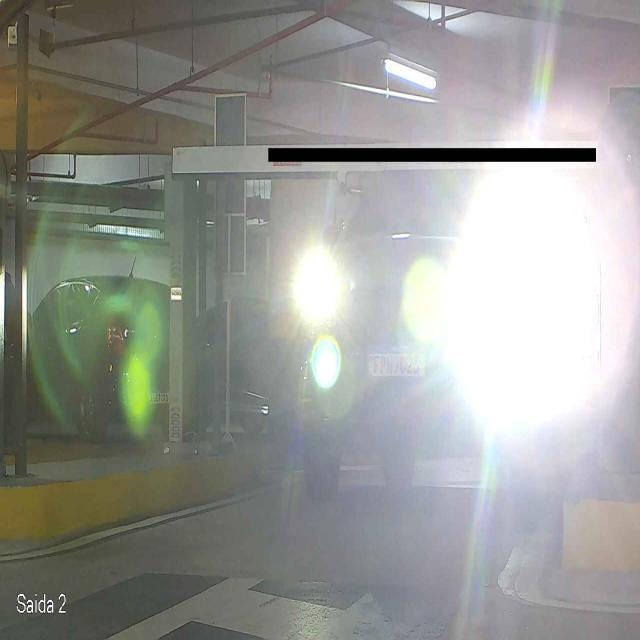mercosul_plate: (366, 345, 428, 379)
